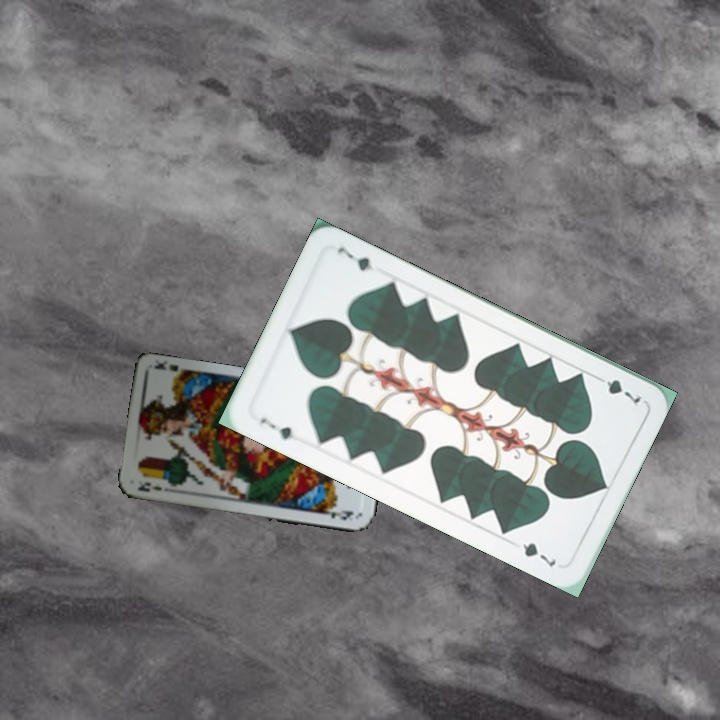EK: (134, 478, 165, 495)
G7: (590, 371, 644, 409), (256, 413, 296, 443)
